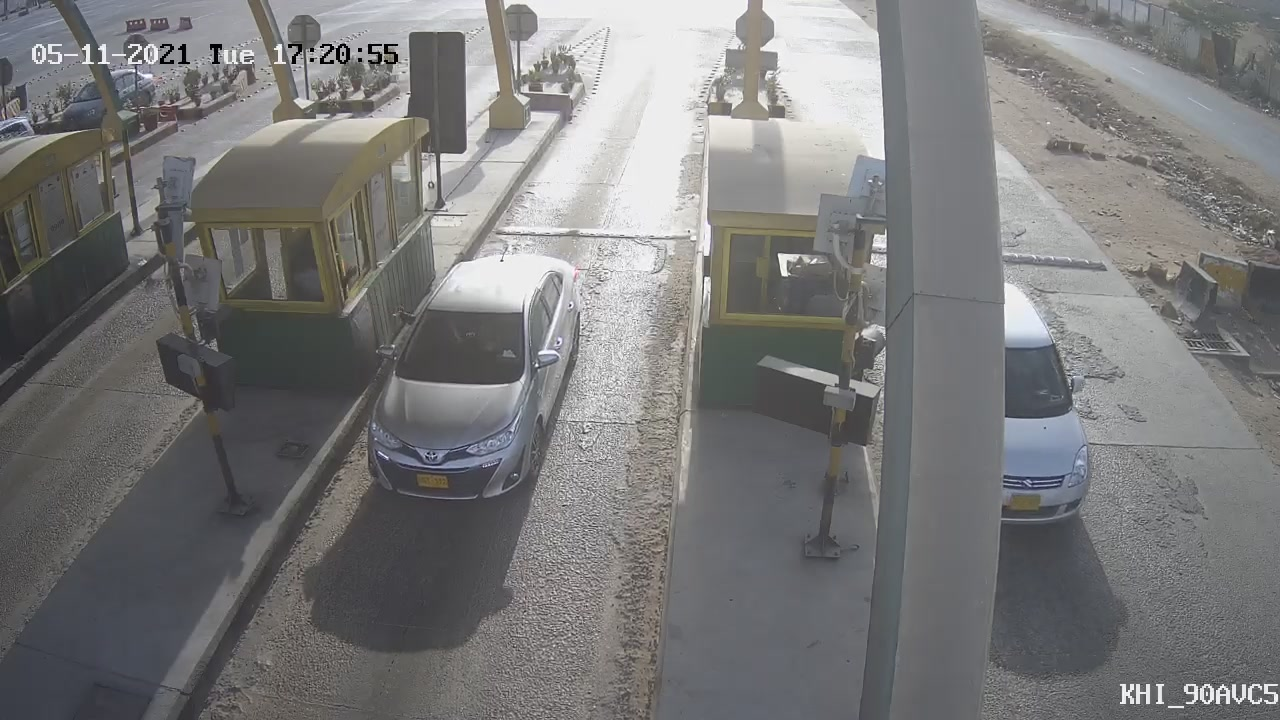F1: (337, 233, 601, 531)
